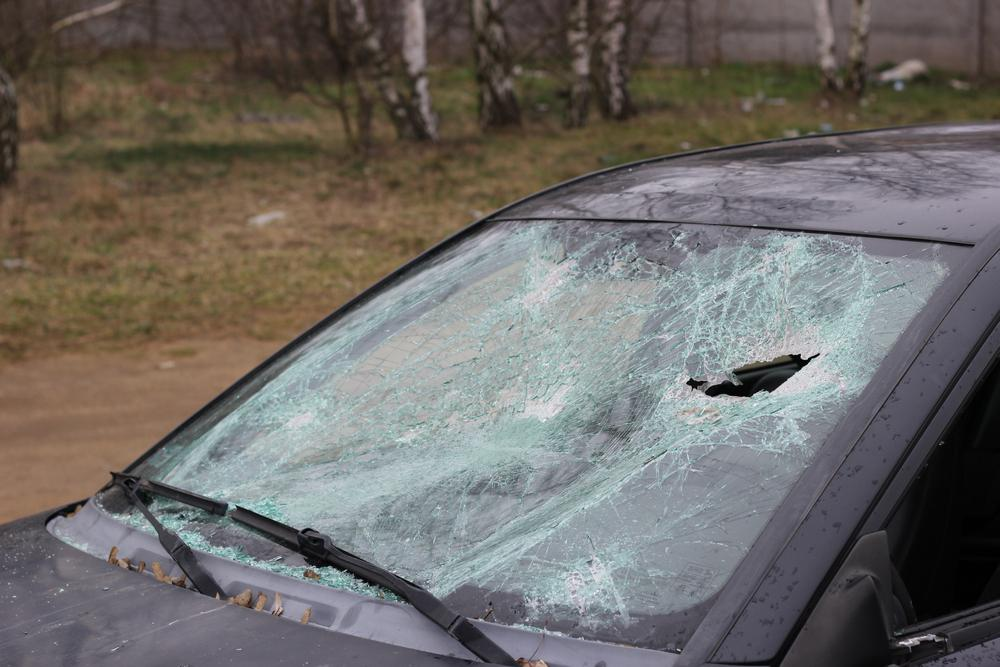glass shatter: (116, 219, 975, 654)
